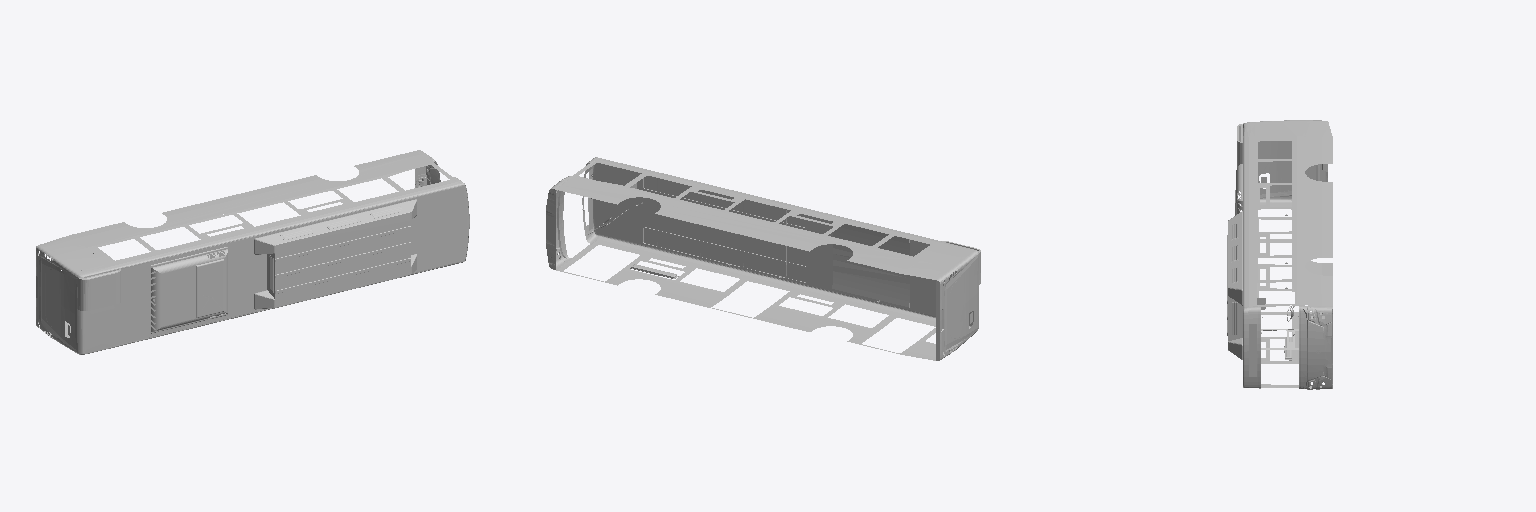
Rendered from body_liaz_body2.obj.
3 renders of one model, left to right at view 1: azimuth 30°, elevation 25°; view 2: azimuth 150°, elevation 25°; view 3: azimuth 270°, elevation 25°, orthographic.
Visible parts, largest first — view 1: Liaz1_hheh4; view 2: Liaz1_hheh4; view 3: Liaz1_hheh4.
Boxes of the visible parts, box(x1,y1,x2,y2) form: Liaz1_hheh4: box(36, 150, 469, 354); Liaz1_hheh4: box(546, 157, 980, 360); Liaz1_hheh4: box(1227, 120, 1332, 389).
Size of the model in its own units: 627 by 125 by 146.